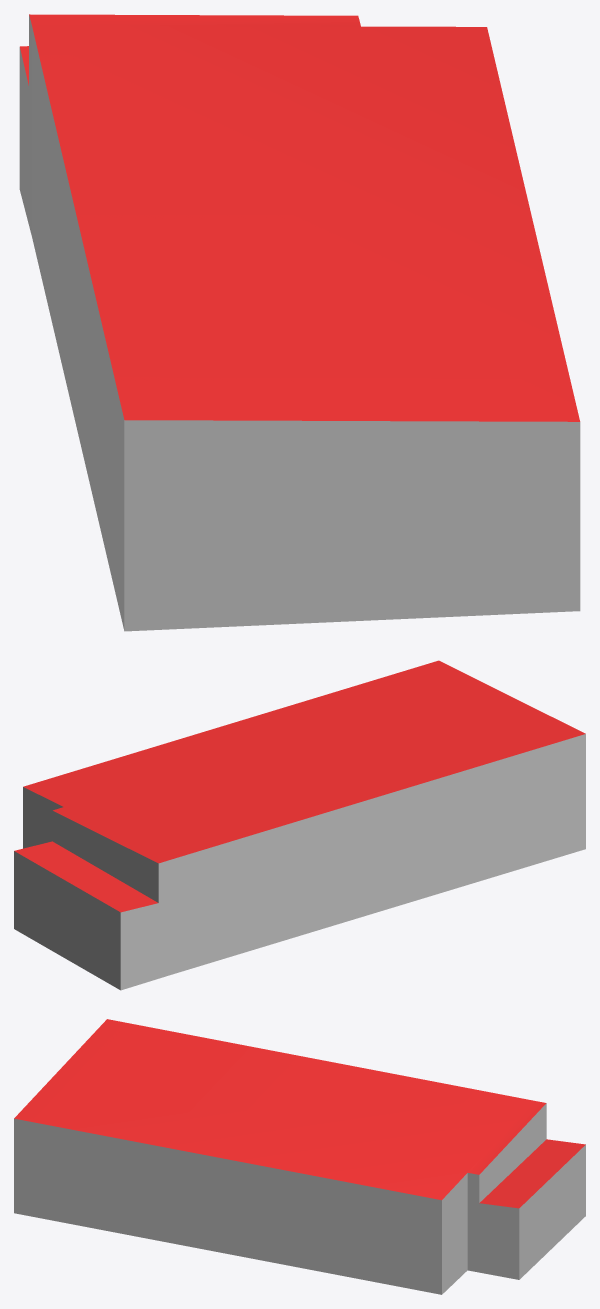
File: DEBY_LOD2_4908048.dae
3 renders of one model, top to bottom at view 1: azimuth 30°, elevation 25°; view 2: azimuth 150°, elevation 25°; view 3: azimuth 270°, elevation 25°, orthographic. The views are drawn at different scales.
Size of the model in its own units: 9.73 by 13.82 by 2.82.
